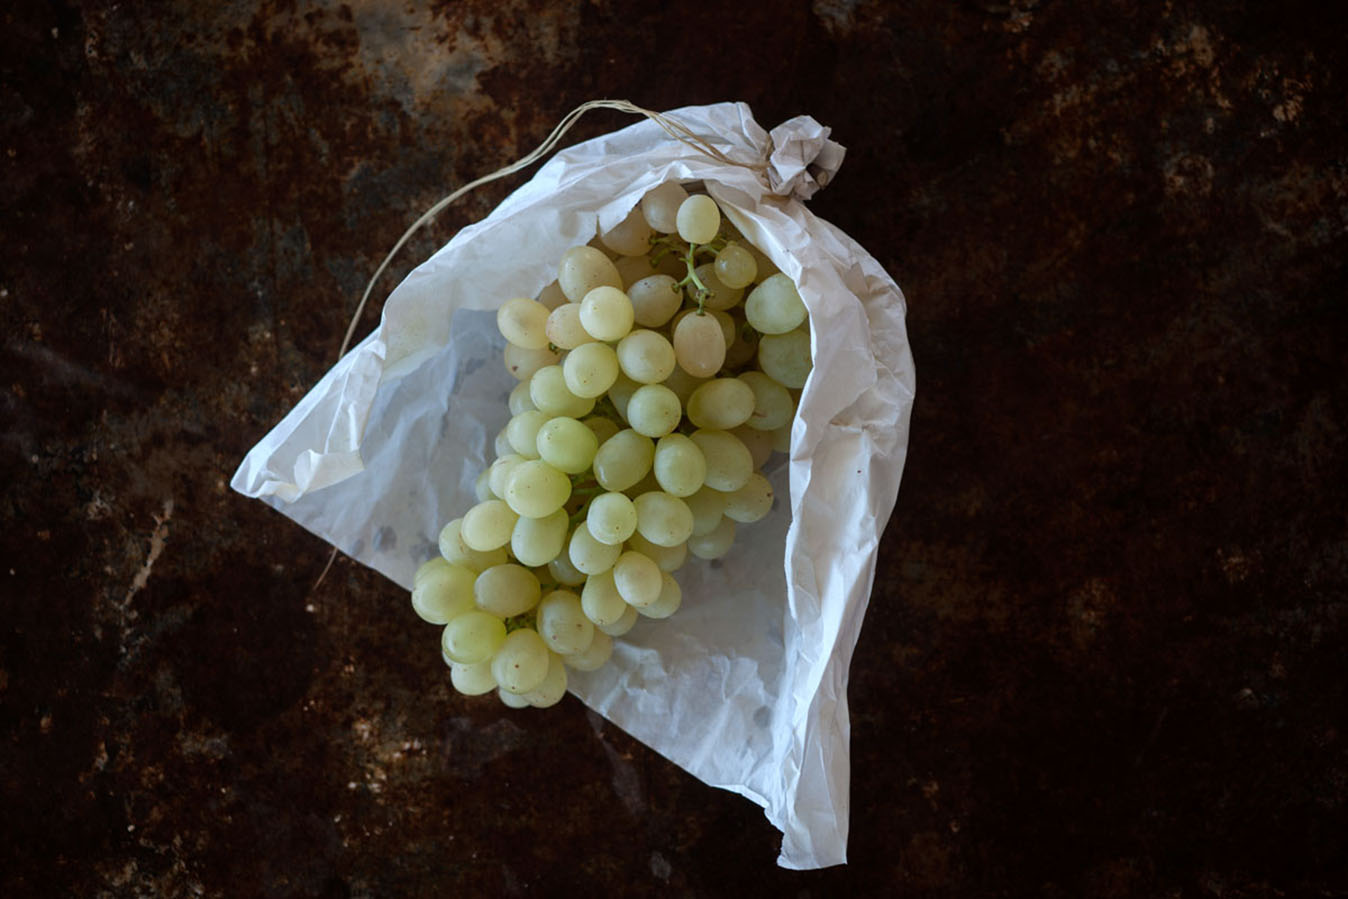Green grapes: (364, 101, 842, 734)
